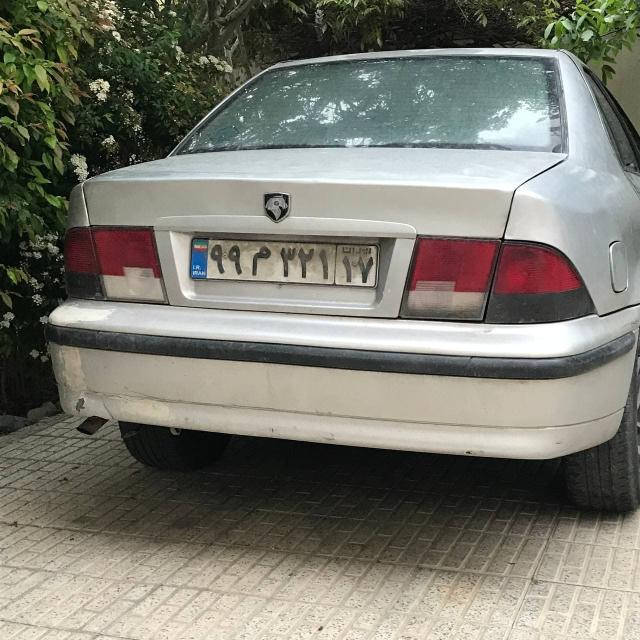Plates: (189, 237, 378, 287)
